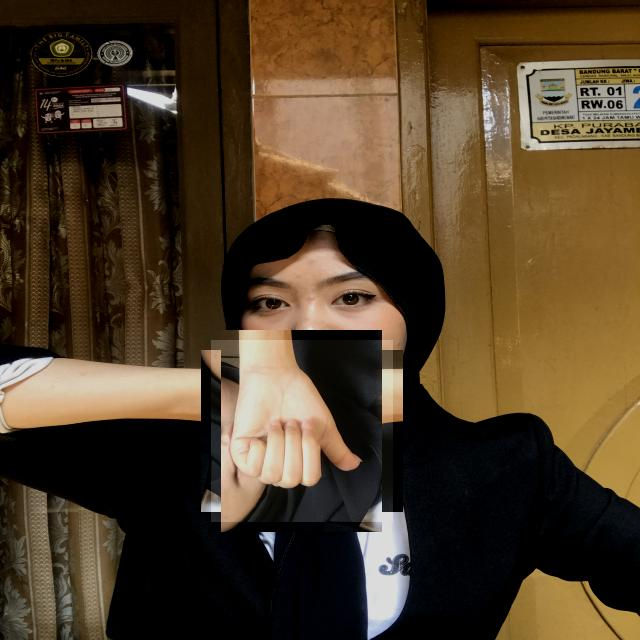sedih: (211, 340, 393, 522)
